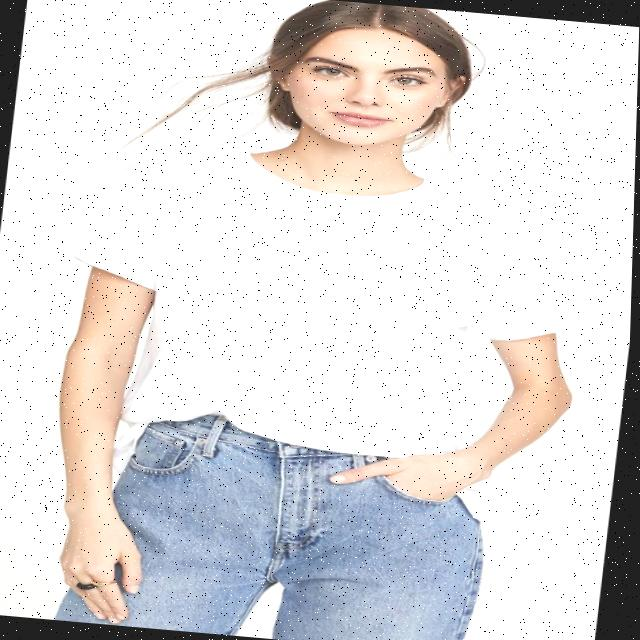Upper-Body: (42, 153, 596, 456)
